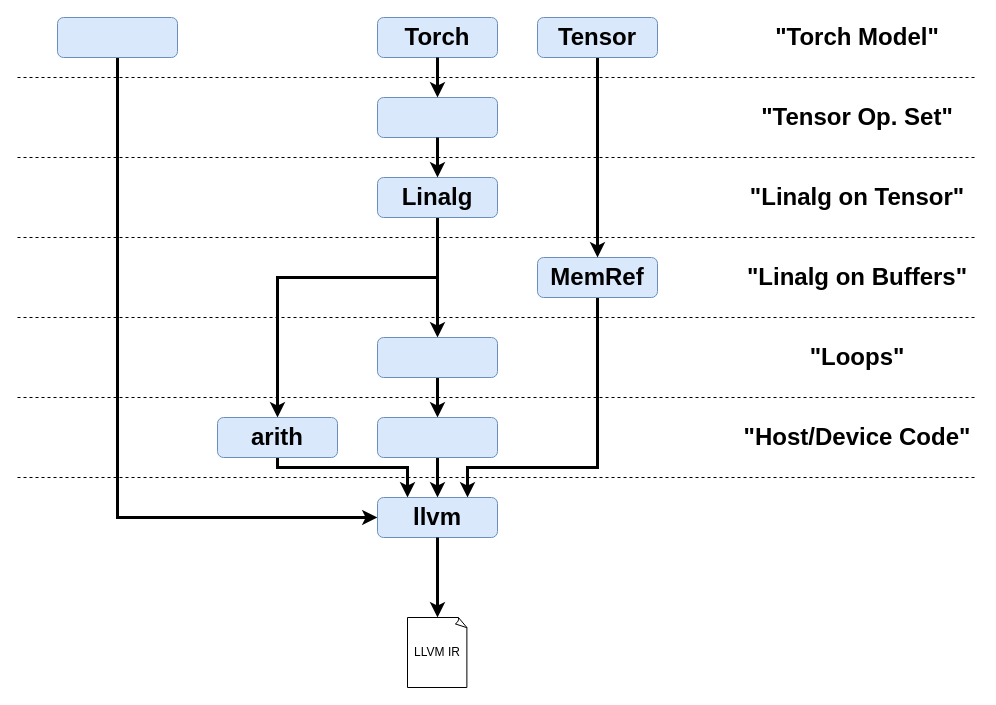
Image size: 996x705. Some labels were removed from this diagram. Each missing label, with the box of its shape:
cf: (376, 416, 498, 458)
Func: (56, 16, 178, 58)
scf: (376, 336, 498, 378)
TOSA: (376, 96, 498, 138)
